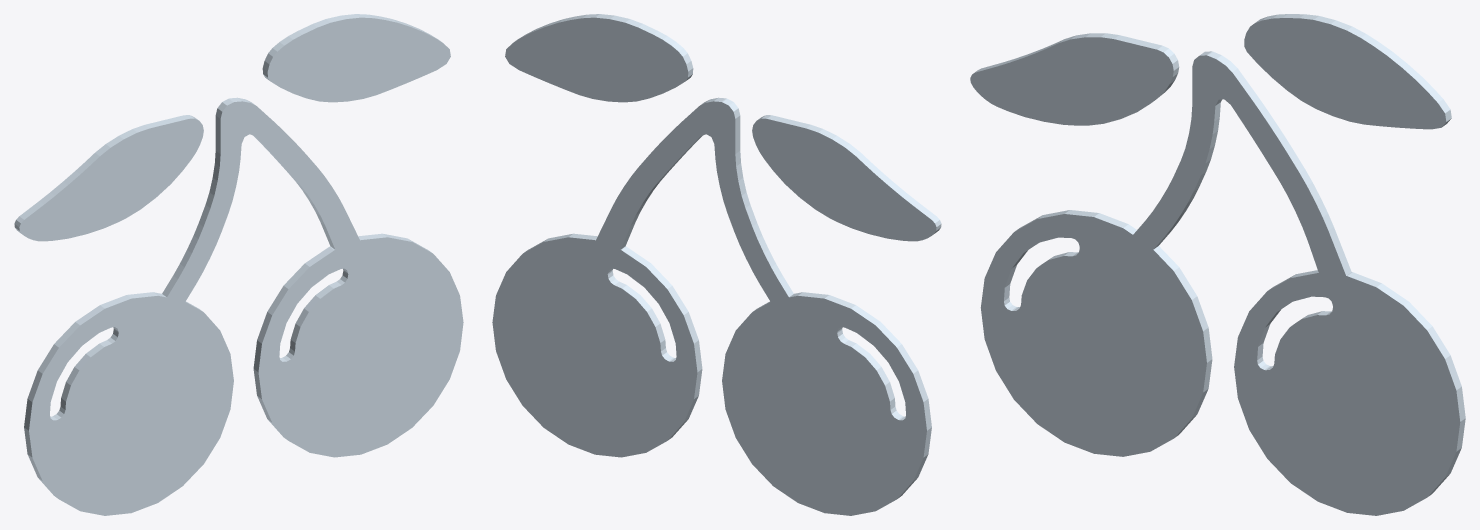
The model's file is Cherry_3D_Icon.fbx.
The picture shows the model from 3 angles, left to right: view 1: azimuth 30°, elevation 25°; view 2: azimuth 150°, elevation 25°; view 3: azimuth 330°, elevation 25°; orthographic projection. The views are drawn at different scales.
Parts seen in each view (by area): view 1: Cherry_3D_Icon; view 2: Cherry_3D_Icon; view 3: Cherry_3D_Icon.
Part boxes in pixels (<box>): Cherry_3D_Icon: <box>14,14,463,515</box>; Cherry_3D_Icon: <box>492,14,941,515</box>; Cherry_3D_Icon: <box>970,14,1465,515</box>.
Size of the model in its own units: 103 by 98.08 by 2.
